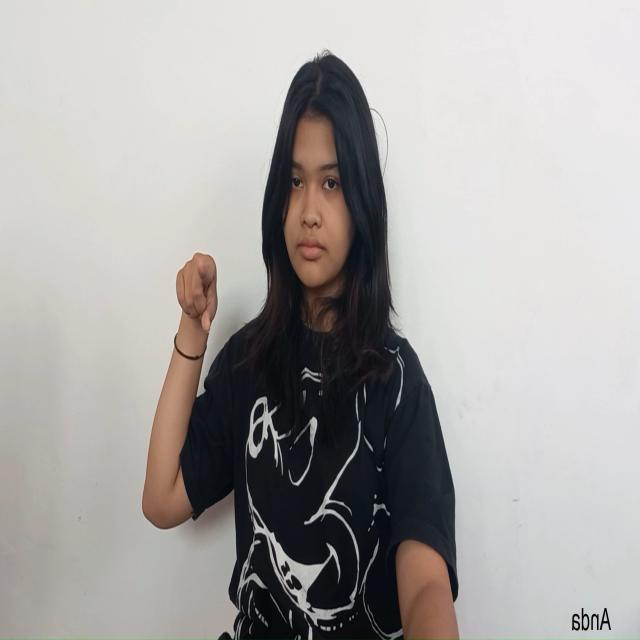Anda -BISINDO-: (174, 249, 219, 338)
